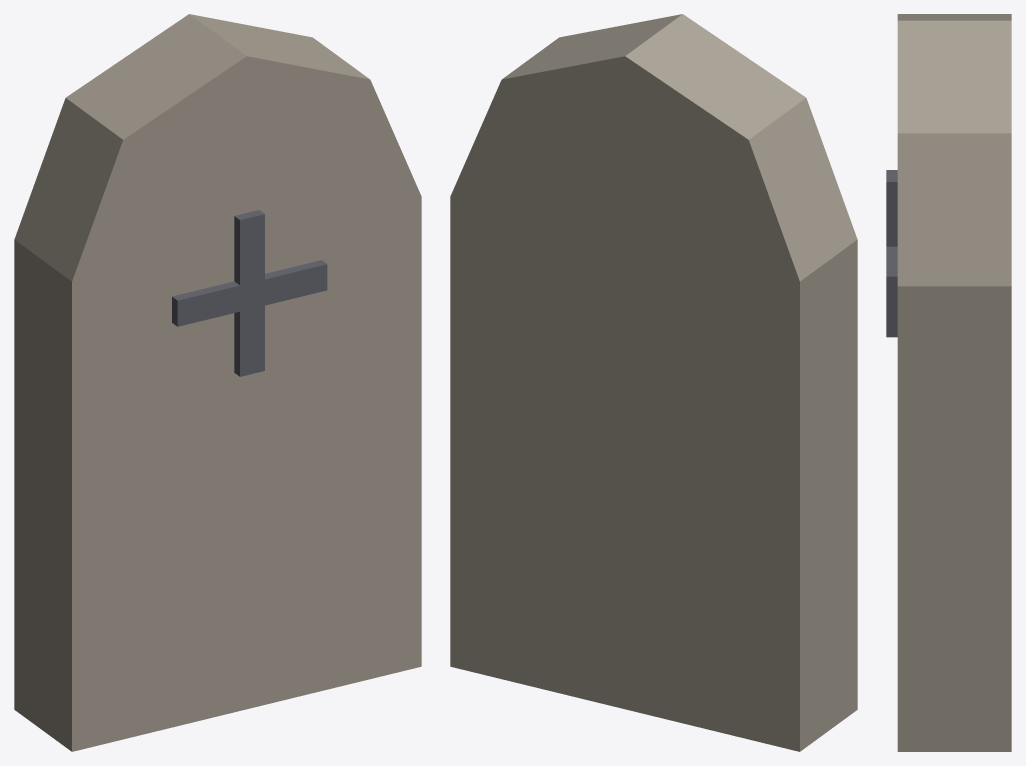
File: gravestone.glb
3 views of the same model, side by side, from view 1: azimuth 30°, elevation 25°; view 2: azimuth 150°, elevation 25°; view 3: azimuth 270°, elevation 25° (orthographic).
Visible parts, largest first — view 1: gravestone; view 2: gravestone; view 3: gravestone.
Part boxes in pixels (<box>): gravestone: <box>14,14,421,751</box>; gravestone: <box>450,14,857,751</box>; gravestone: <box>886,14,1011,751</box>.
Bounding box in the file's own units: 0.7 × 1.25 × 0.22.
